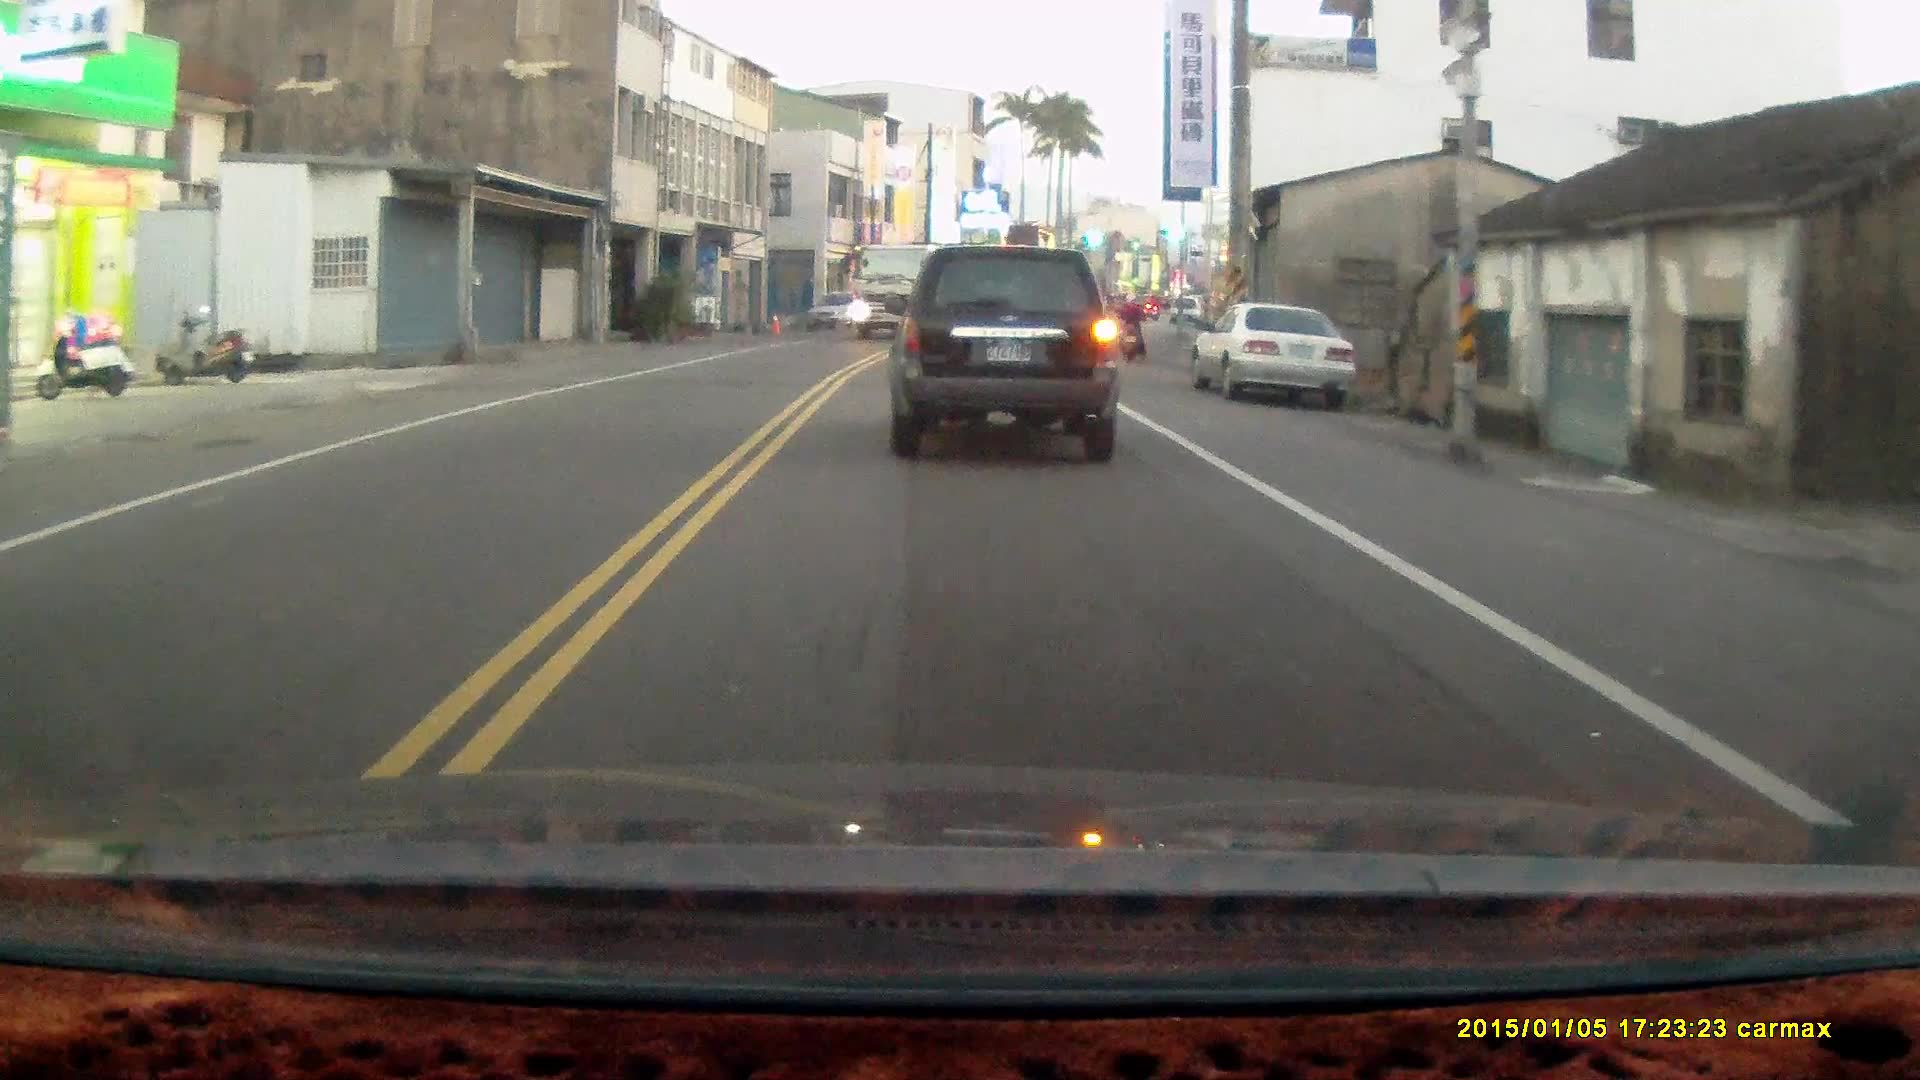rider: (1114, 290, 1146, 363)
vehicle: (889, 248, 1130, 463), (1192, 301, 1359, 413), (841, 241, 943, 341), (806, 291, 877, 337)
